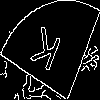K: (25, 25, 63, 82)
